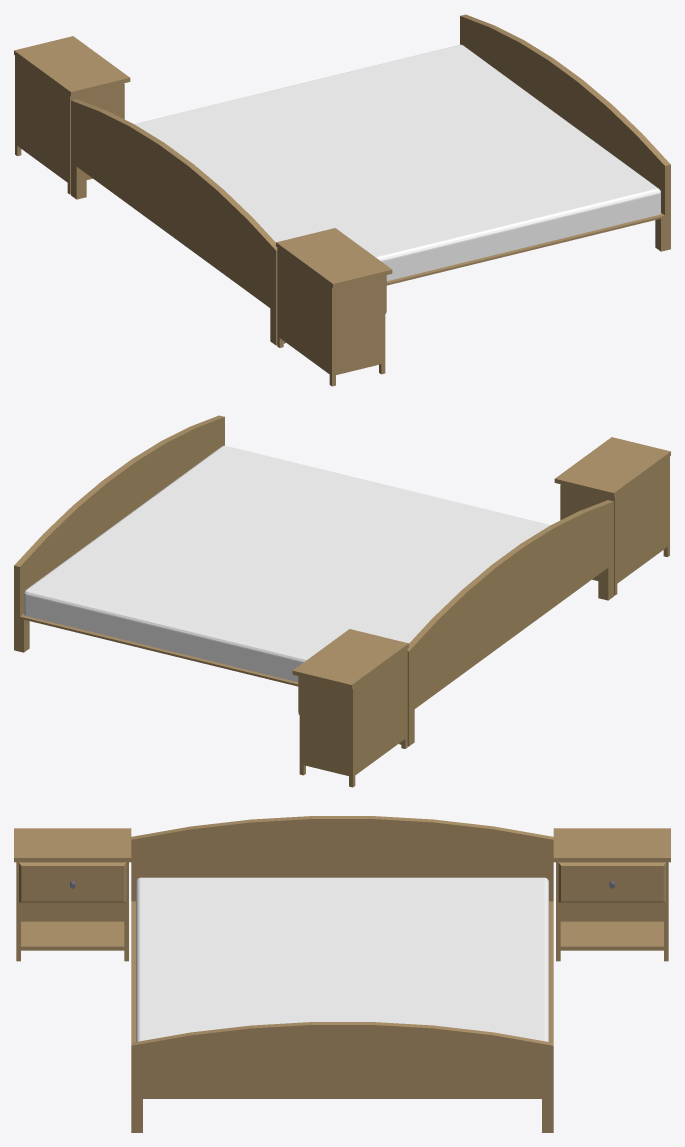
The picture shows the model from 3 angles, top to bottom: view 1: azimuth 30°, elevation 25°; view 2: azimuth 150°, elevation 25°; view 3: azimuth 270°, elevation 25°; orthographic projection. The views are drawn at different scales.
Visible parts, largest first — view 1: _0-0, _0-1; view 2: _0-0, _0-1; view 3: _0-1, _0-0.
Part boxes in pixels (x1=…): _0-0: x1=134, y1=44, x2=660, y2=280; _0-1: x1=14, y1=14, x2=670, y2=386; _0-0: x1=24, y1=445, x2=550, y2=681; _0-1: x1=14, y1=415, x2=670, y2=787; _0-1: x1=14, y1=816, x2=670, y2=1132; _0-0: x1=136, y1=877, x2=548, y2=1041.
Bounding box in the file's own units: 2 × 0.558 × 2.8.
